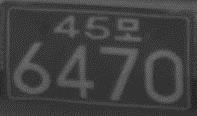0: (143, 48, 184, 104)
4: (55, 44, 94, 100), (53, 14, 80, 39)
5: (84, 15, 111, 40)
6: (13, 41, 51, 95)
7: (99, 45, 138, 101)
모: (113, 17, 141, 41)
